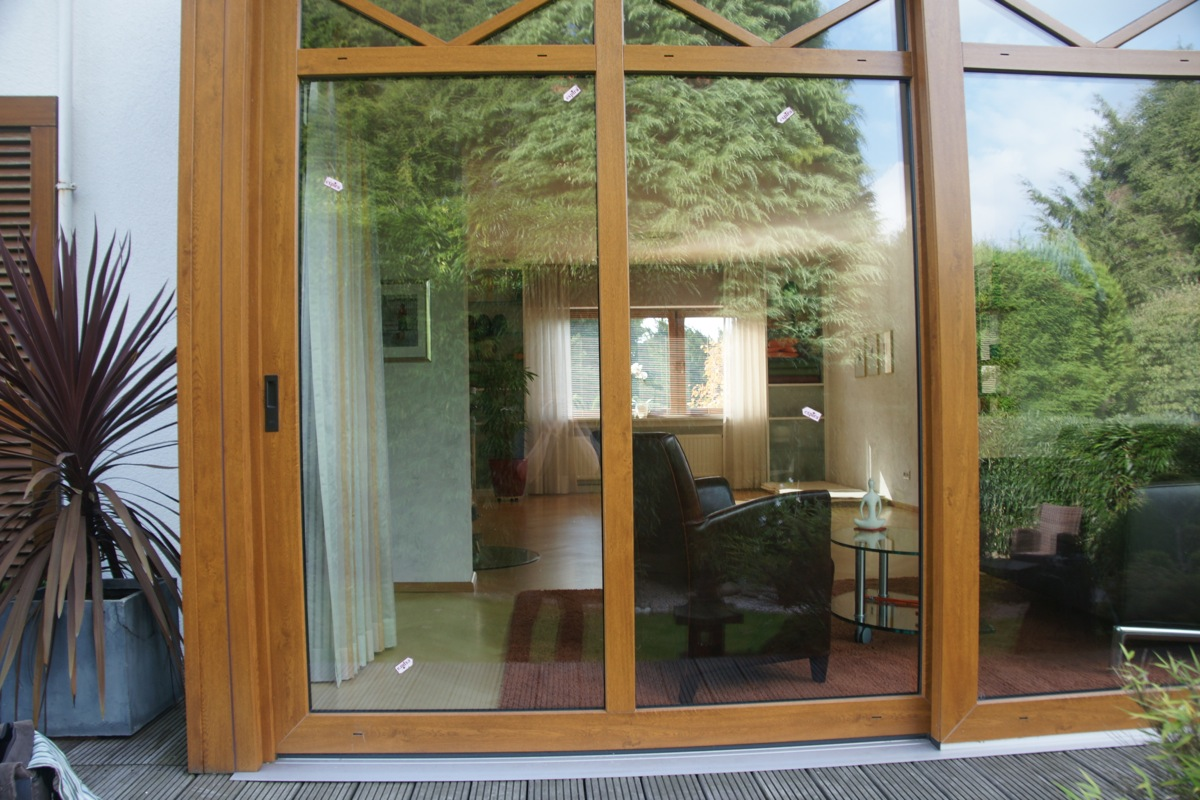windows: (185, 9, 1200, 737)
